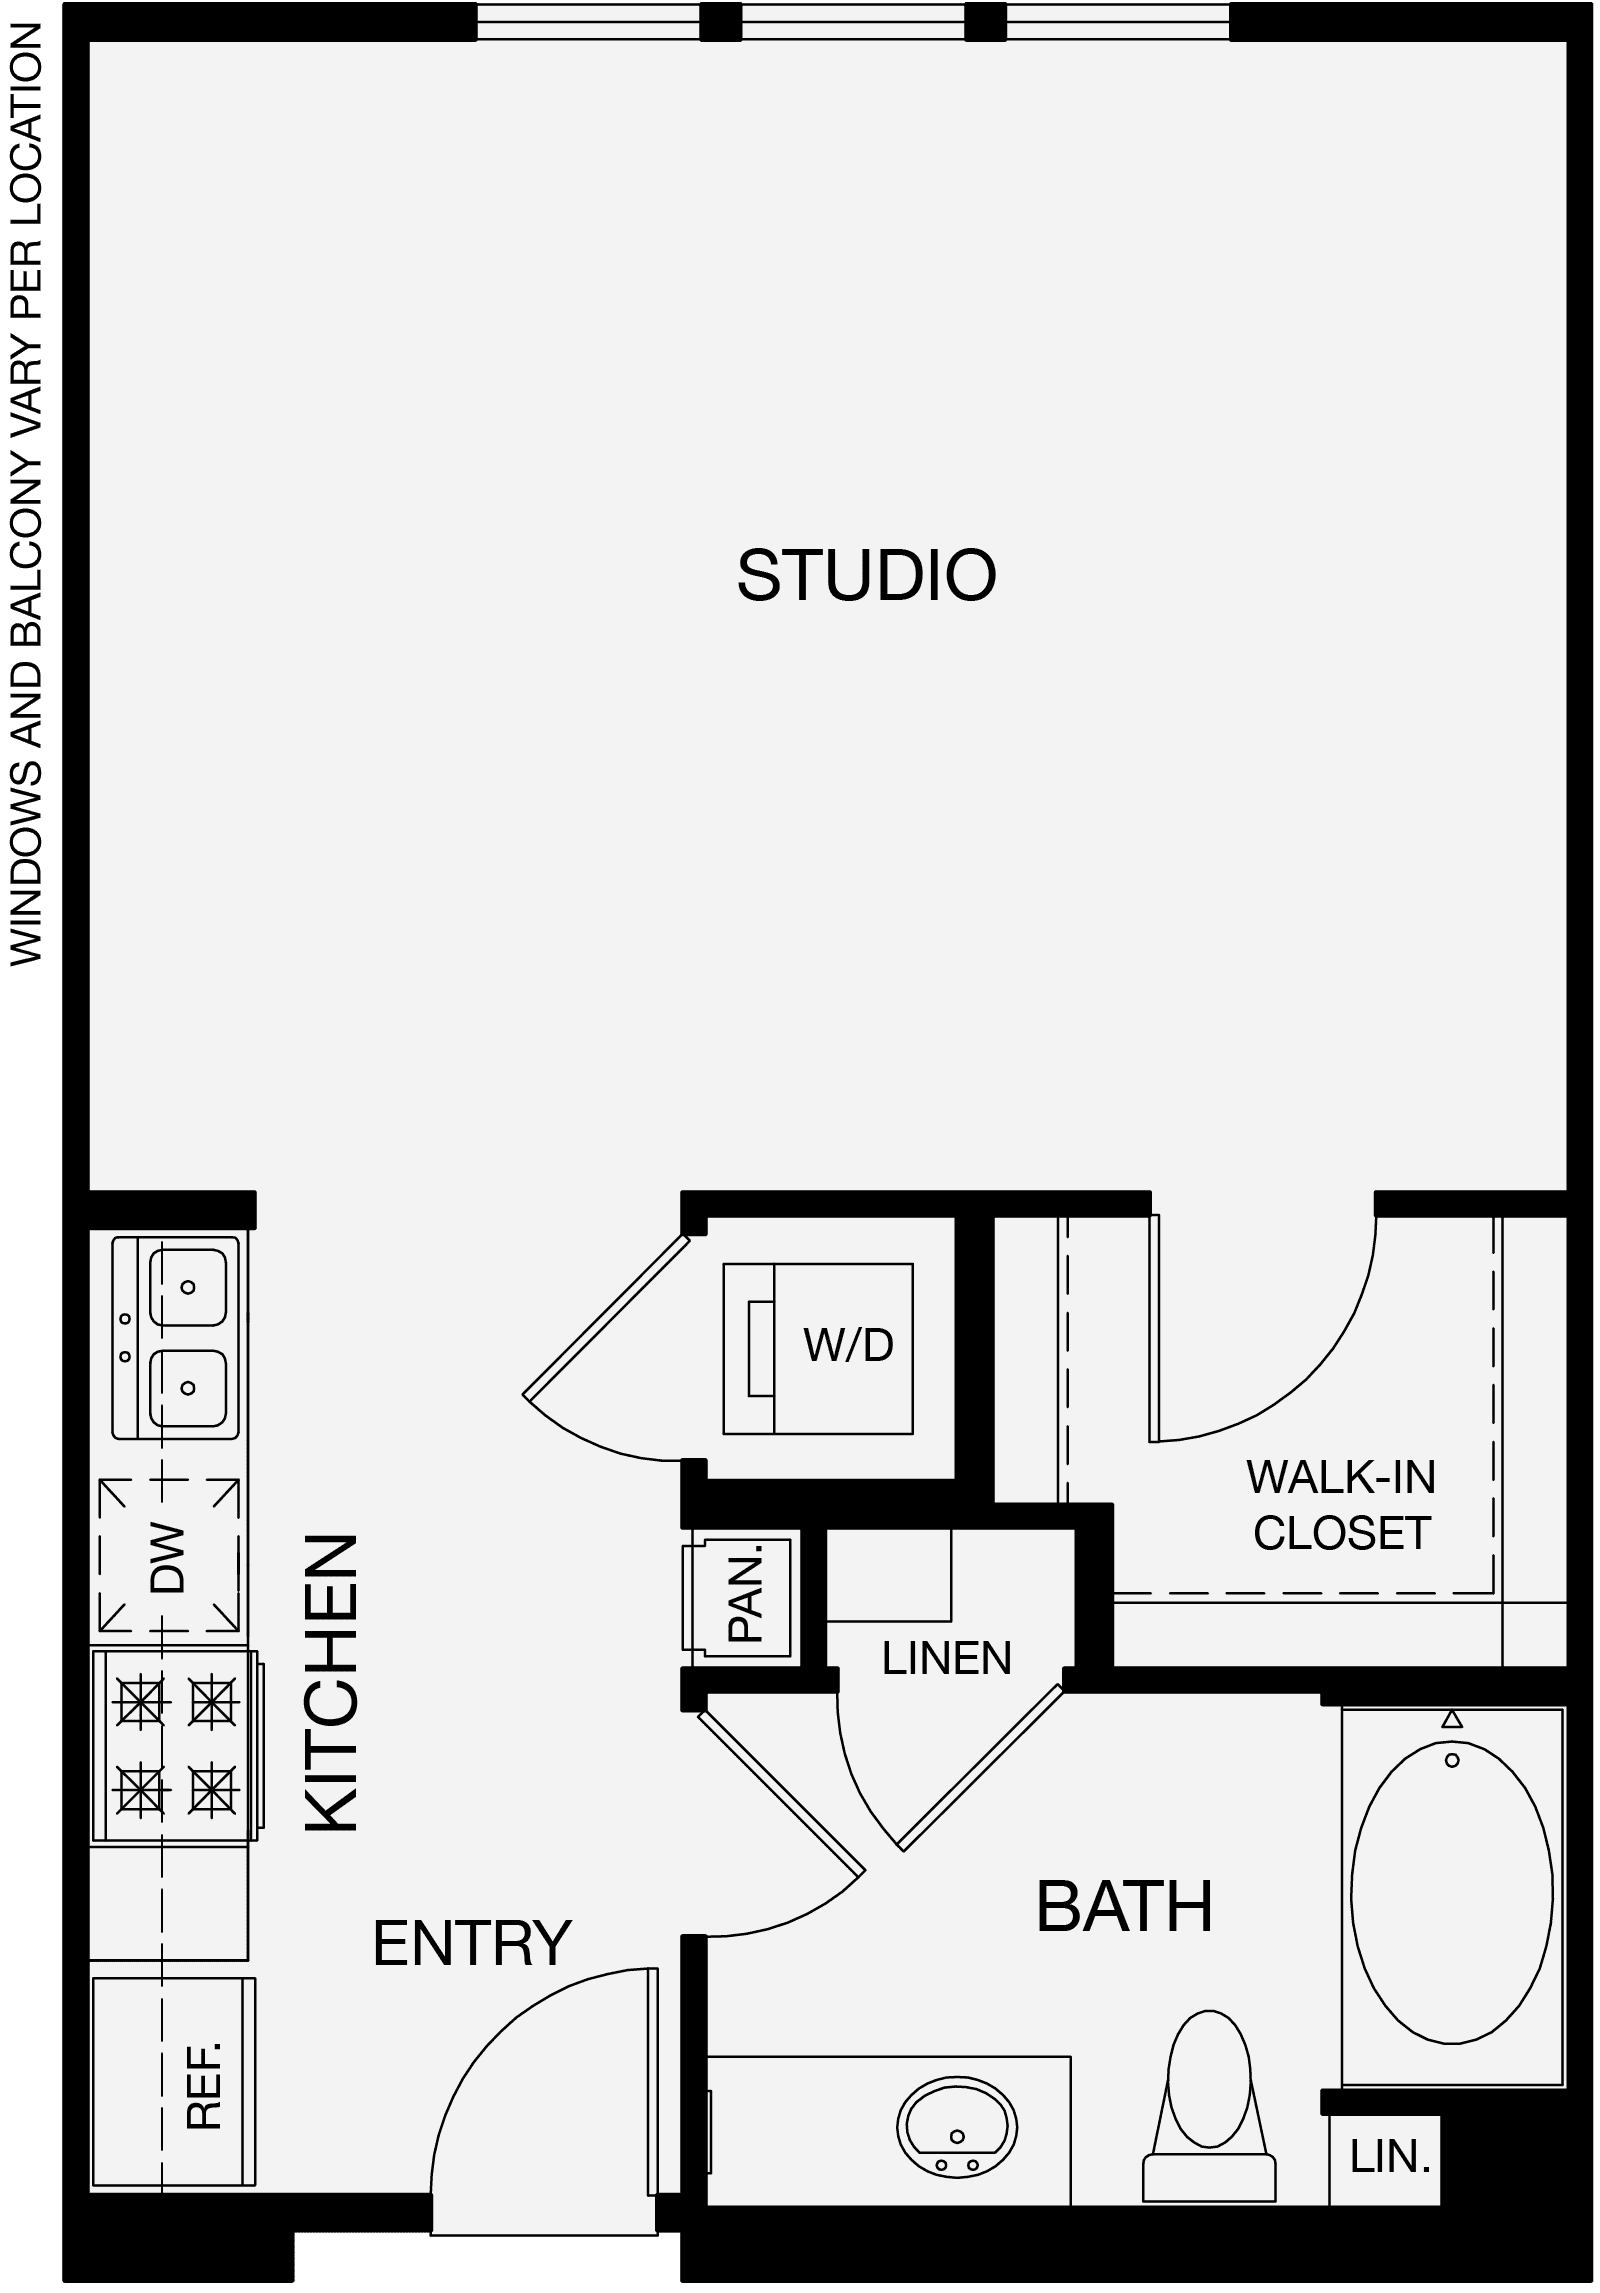door: (422, 1945, 671, 2204), (1138, 1227, 1379, 1457), (826, 1694, 1070, 1870), (511, 1228, 676, 1465), (709, 1715, 870, 1946)
